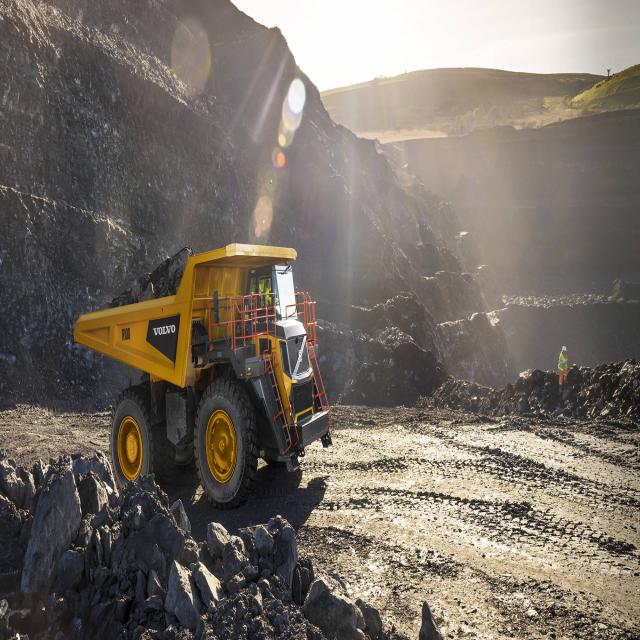dump_truck: (76, 226, 342, 523)
